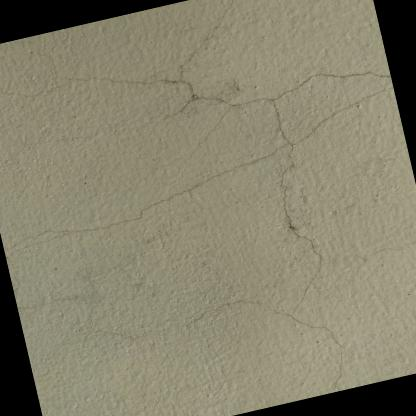crack: (21, 0, 394, 392)
